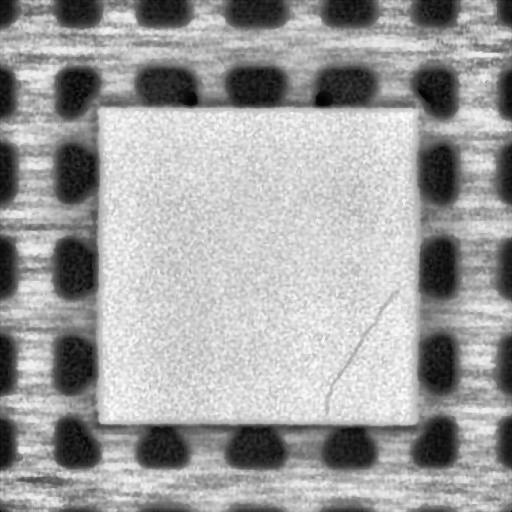DIE_CRACK: (316, 285, 402, 415)
